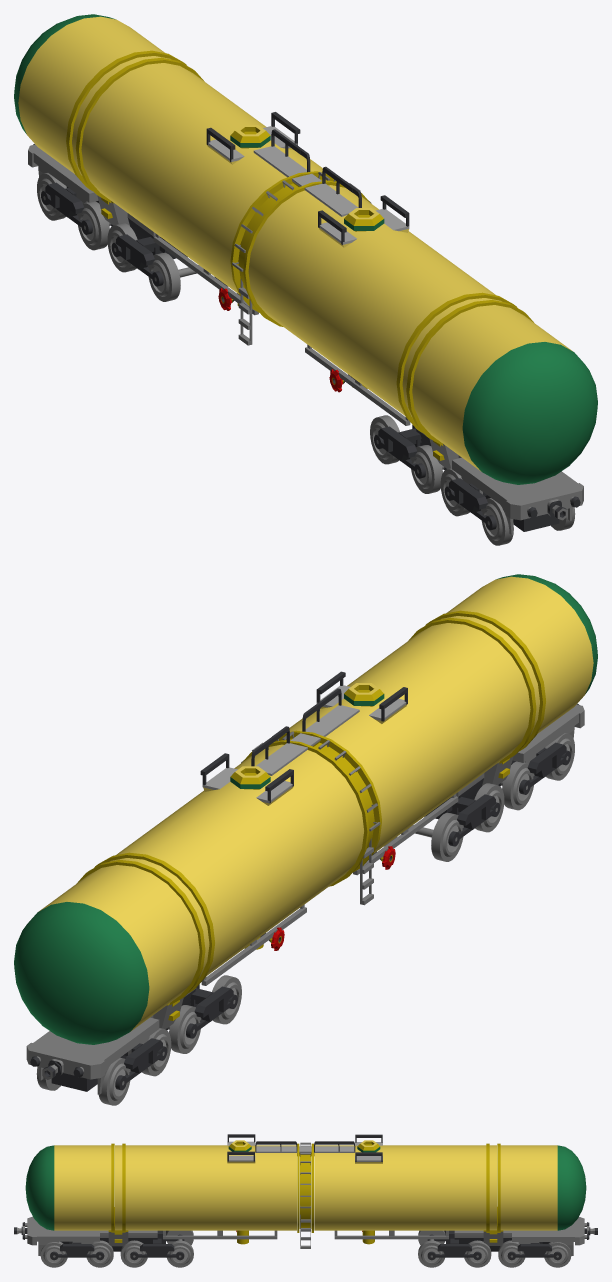
File: tank-wagon-8axle.glb
3 views of the same model, one above another, from view 1: azimuth 30°, elevation 25°; view 2: azimuth 150°, elevation 25°; view 3: azimuth 270°, elevation 25° (orthographic). The views are drawn at different scales.
Parts seen in each view (by area): view 1: cylinder (×13), sphere_half (×2), wheel_medium (×6), bogie_clamp (×2), bogie_frame (×4), fuel_thin, chimney_large (×2), coupling; view 2: cylinder (×13), sphere_half (×2), wheel_medium (×6), bogie_clamp (×2), bogie_frame (×4), fuel_thin, chimney_large (×2), coupling; view 3: cylinder (×13), wheel_medium (×8), sphere_half (×2), fuel_thin (×5), bogie_clamp (×2), bogie_frame (×4), detail_fence_support (×4), bogie_frame_connection (×4), fuel_large (×2), coupling (×2), chimney_large (×2).
Boxes of the visible parts, x1,y1,x2,y2 form: cylinder (×13): (18,16,573,471); sphere_half (×2): (14,14,597,484); wheel_medium (×6): (77,201,575,545); bogie_clamp (×2): (29,147,578,534); bogie_frame (×4): (45,182,487,512); fuel_thin: (253,146,358,216); chimney_large (×2): (230,125,384,231); coupling: (506,483,583,520); cylinder (×13): (38,576,593,1031); sphere_half (×2): (14,574,597,1044); wheel_medium (×6): (36,761,534,1105); bogie_clamp (×2): (28,707,583,1094); bogie_frame (×4): (123,742,566,1073); fuel_thin: (256,705,359,775); chimney_large (×2): (230,683,384,789); coupling: (26,1042,105,1079); cylinder (×13): (54,1143,557,1232); wheel_medium (×8): (40,1230,571,1267); sphere_half (×2): (25,1145,586,1230); fuel_thin (×5): (100,1146,511,1251); bogie_clamp (×2): (31,1217,580,1255); bogie_frame (×4): (60,1230,551,1256); detail_fence_support (×4): (163,1230,448,1239); bogie_frame_connection (×4): (50,1234,561,1260); fuel_large (×2): (108,1207,503,1246); coupling (×2): (22,1216,589,1245); chimney_large (×2): (228,1140,380,1152).
Bounding box in the file's own units: 3.53 × 5.11 × 22.69.
